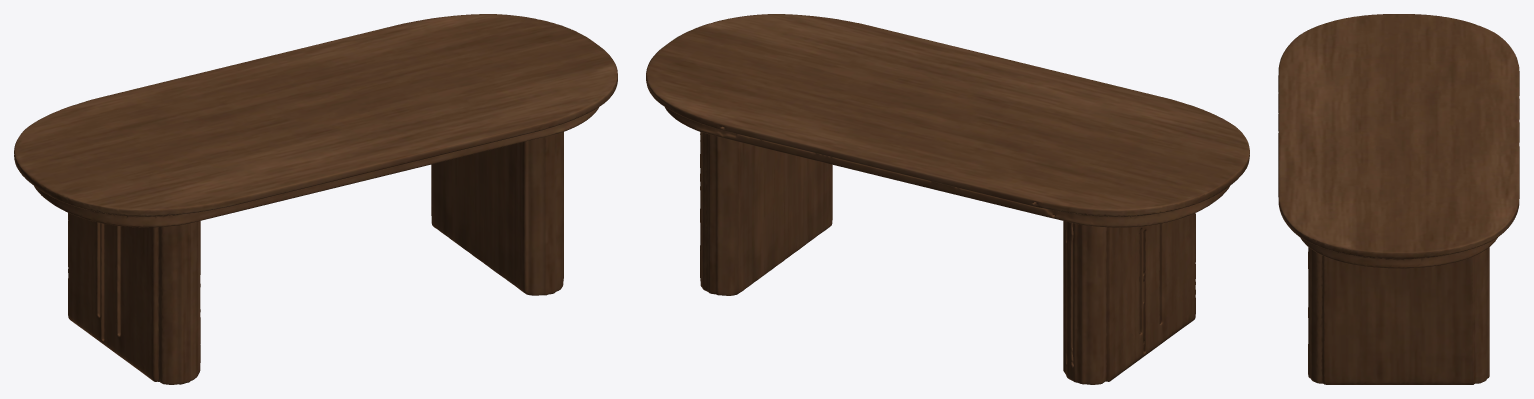
The model's file is table_oval.glb.
3 views of the same model, side by side, from view 1: azimuth 30°, elevation 25°; view 2: azimuth 150°, elevation 25°; view 3: azimuth 270°, elevation 25° (orthographic). The views are drawn at different scales.
Parts seen in each view (by area): view 1: world; view 2: world; view 3: world.
Boxes of the visible parts, x1,y1,x2,y2 form: world: (14, 14, 617, 384); world: (646, 14, 1249, 384); world: (1278, 14, 1519, 384).
Size of the model in its own units: 1 by 0.3237 by 0.4272.
1 material, 1 textured.
